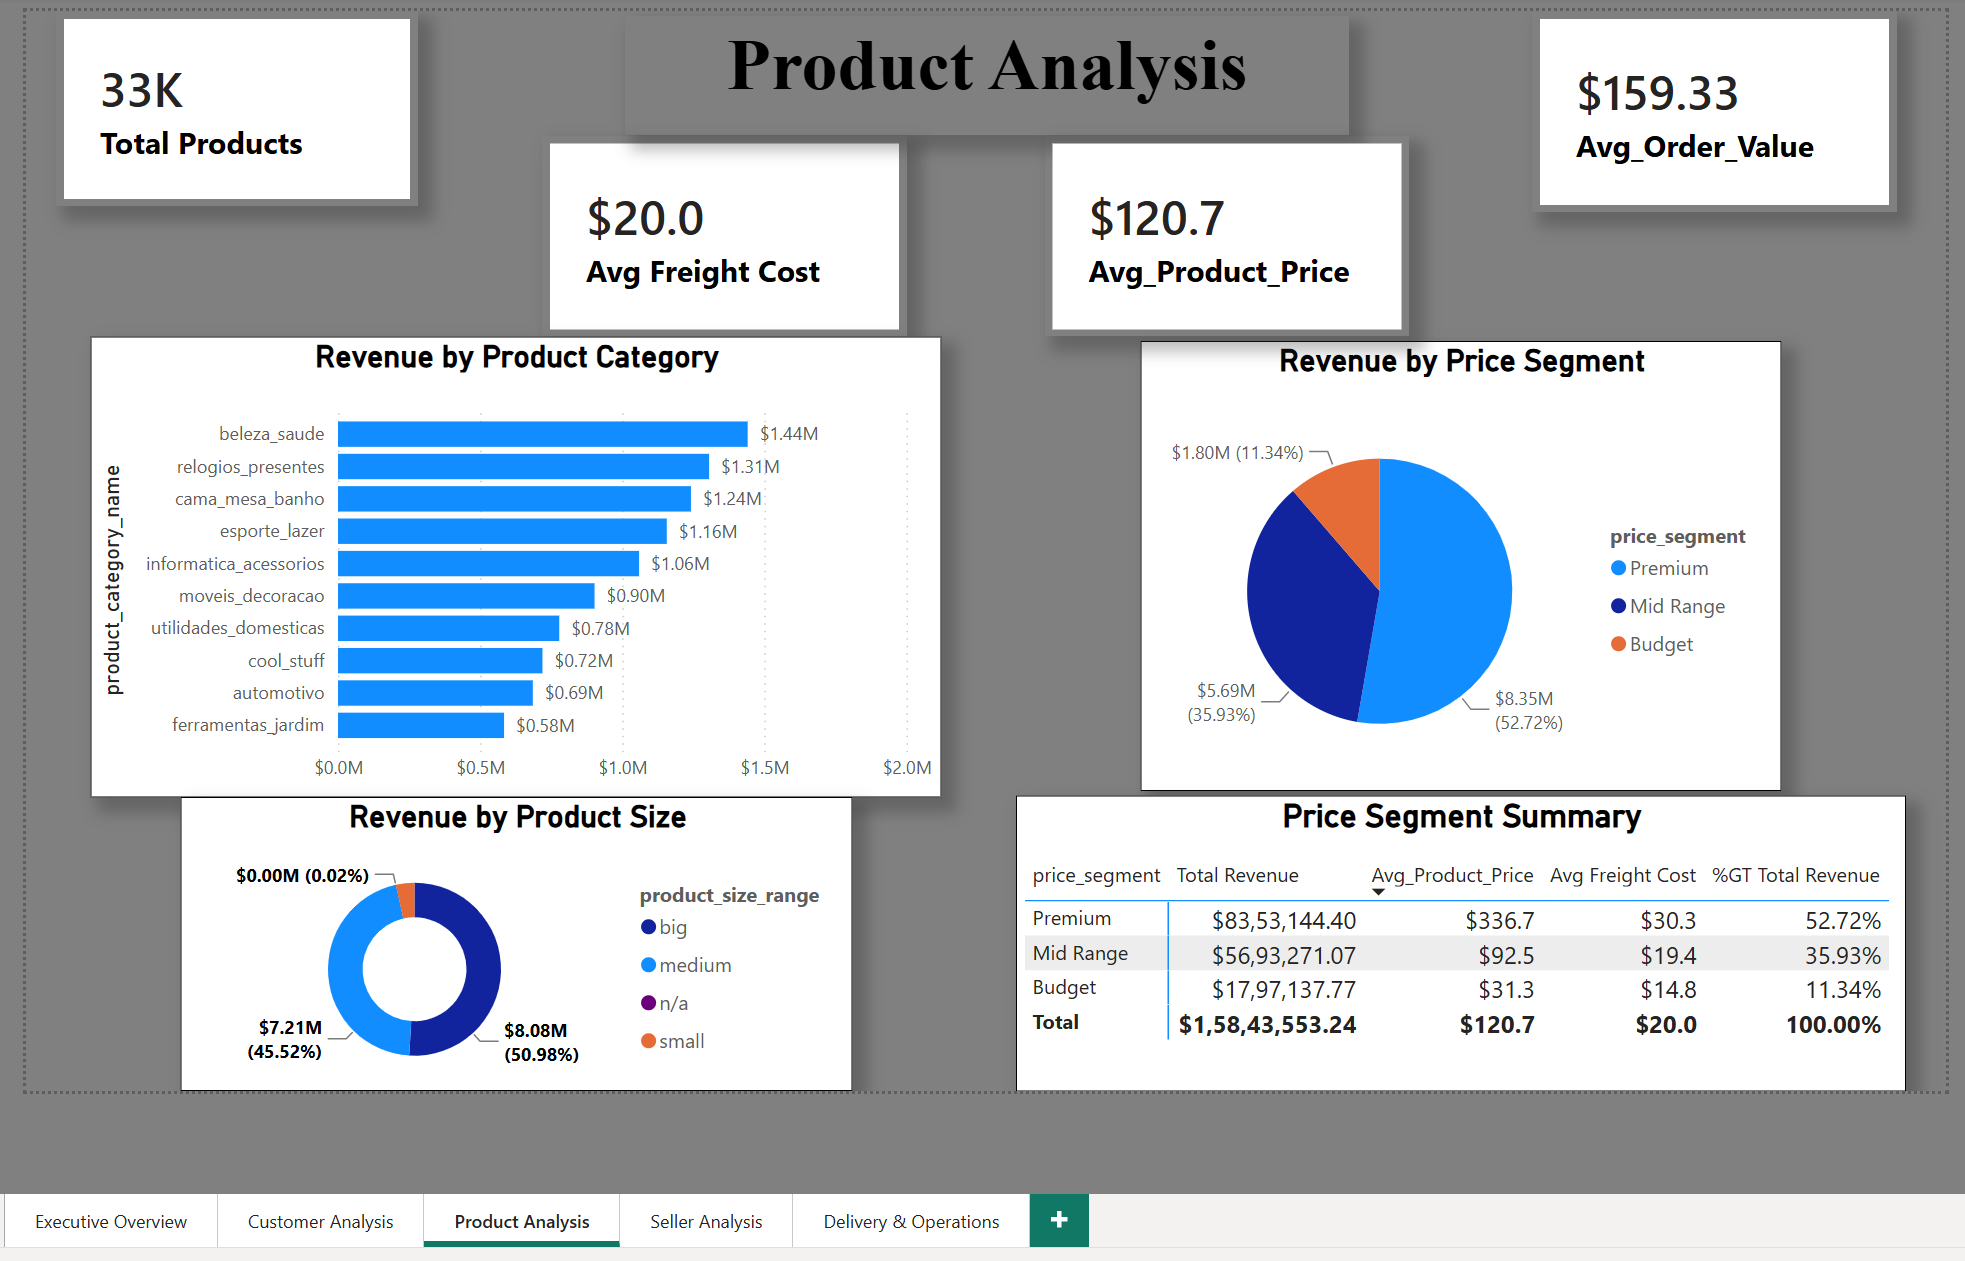

What the dashboard file says about the page in this screenshot:
{"tool":"powerbi","page":{"name":"Product Analysis","canvas":[1280,720],"ordinal":2},"visuals":[{"type":"cardVisual","fields":{"Data":["new_measure.Avg Freight Cost"]},"box":[343.8,82.5,242.9,134.3],"z":0},{"type":"pieChart","title":"Revenue by Price Segment","fields":{"Category":["GOLD fact_order_items.price_segment"],"Y":["new_measure.Total Revenue"]},"box":[742.5,220,427.5,300],"z":1000},{"type":"textbox","box":[398.8,2.5,482.9,80],"z":2000},{"type":"barChart","title":"Revenue by Product Category","fields":{"Category":["GOLD dim_products.product_category_name"],"Y":["new_measure.Total Revenue"]},"box":[43,217,566.7,306.7],"z":4000},{"type":"cardVisual","fields":{"Data":["new_measure.Avg_Product_Price"]},"box":[678.8,82.5,242.9,134.3],"z":5000},{"type":"cardVisual","fields":{"Data":["new_measure.Total Products"]},"box":[20,0,241.1,130],"z":6000},{"type":"pivotTable","title":"Price Segment Summary","fields":{"Rows":["GOLD fact_order_items.price_segment"],"Values":["new_measure.Total Revenue","new_measure.Avg_Product_Price","new_measure.Avg Freight Cost","Divide(new_measure.Total Revenue, ScopedEval(new_measure.Total Revenue, []))"]},"box":[660,522.5,592.5,197.5],"z":7000},{"type":"donutChart","title":"Revenue by Product Size","fields":{"Series":["GOLD dim_products.product_size_range"],"Y":["new_measure.Total Revenue"]},"box":[102.5,523.8,448.9,196.7],"z":8000},{"type":"cardVisual","fields":{"Data":["new_measure.Avg_Order_Value"]},"box":[1003.8,0,243.3,134.4],"z":9000}]}

Visuals, with their boxes on the page's 1280x720 design canvas (x1, y1, x2, y2). These are canvas units, not pixel positions in the 1965x1261 screenshot, which may show the page scaled, cropped or inside an application window:
cardVisual - new_measure.Avg Freight Cost: 344, 82, 587, 217
"Revenue by Price Segment" pieChart: 742, 220, 1170, 520
textbox: 399, 2, 882, 82
"Revenue by Product Category" barChart: 43, 217, 610, 524
cardVisual - new_measure.Avg_Product_Price: 679, 82, 922, 217
cardVisual - new_measure.Total Products: 20, 0, 261, 130
"Price Segment Summary" pivotTable: 660, 522, 1252, 720
"Revenue by Product Size" donutChart: 102, 524, 551, 720
cardVisual - new_measure.Avg_Order_Value: 1004, 0, 1247, 134
